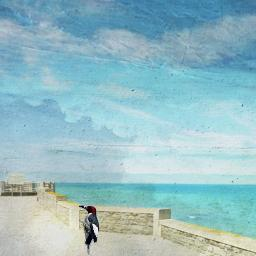Woodpecker: (79, 205, 99, 255)
